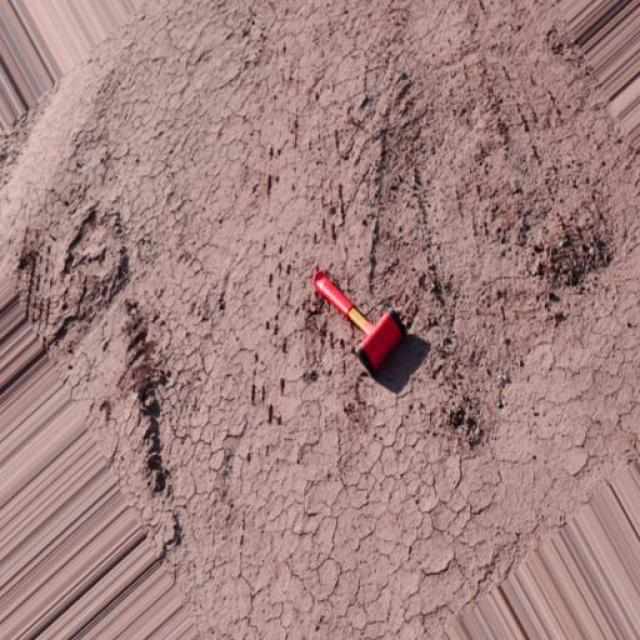mallet: (310, 267, 406, 375)
